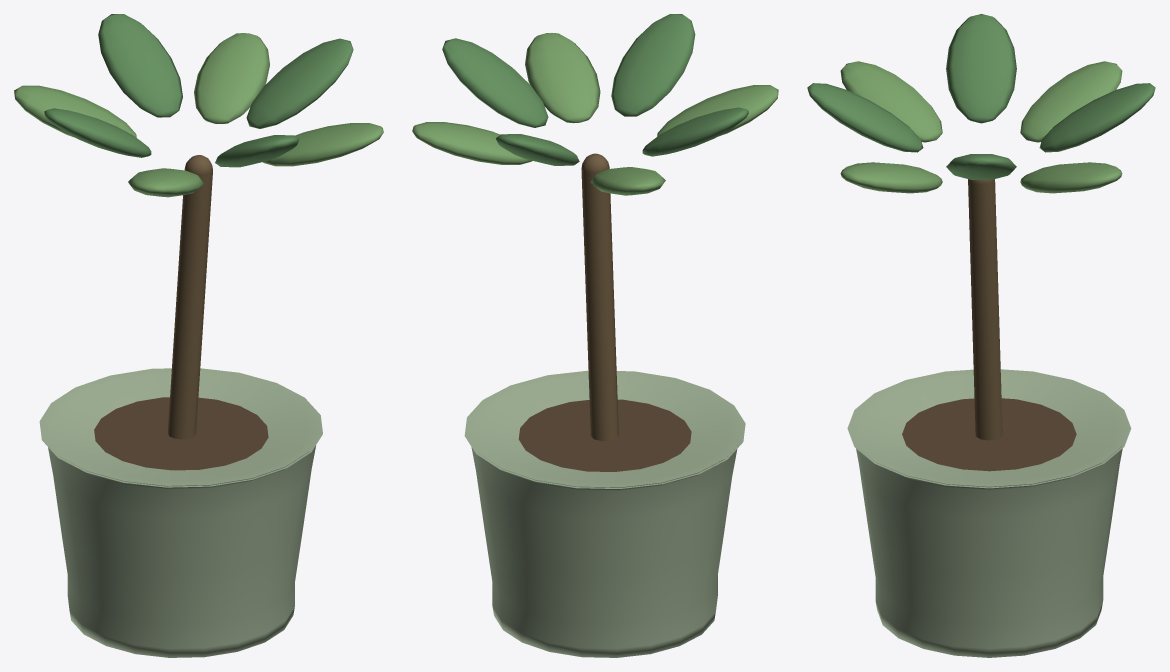
File: plant-palm.glb
The picture shows the model from 3 angles, left to right: view 1: azimuth 30°, elevation 25°; view 2: azimuth 150°, elevation 25°; view 3: azimuth 270°, elevation 25°; orthographic projection.
Visible parts, largest first — view 1: plant-palm_m_9fb194, plant-palm_m_5f8a5a, plant-palm_m_77a067, plant-palm_m_5a4636, plant-palm_m_6d5a3f; view 2: plant-palm_m_9fb194, plant-palm_m_5f8a5a, plant-palm_m_77a067, plant-palm_m_5a4636, plant-palm_m_6d5a3f; view 3: plant-palm_m_9fb194, plant-palm_m_5f8a5a, plant-palm_m_77a067, plant-palm_m_5a4636, plant-palm_m_6d5a3f.
Boxes of the visible parts, x1,y1,x2,y2 form: plant-palm_m_9fb194: [39, 368, 322, 657]; plant-palm_m_5f8a5a: [44, 14, 353, 167]; plant-palm_m_77a067: [14, 33, 383, 197]; plant-palm_m_5a4636: [94, 397, 268, 470]; plant-palm_m_6d5a3f: [167, 155, 212, 439]; plant-palm_m_9fb194: [464, 370, 745, 657]; plant-palm_m_5f8a5a: [442, 14, 748, 165]; plant-palm_m_77a067: [412, 33, 778, 195]; plant-palm_m_5a4636: [518, 399, 691, 471]; plant-palm_m_6d5a3f: [581, 153, 618, 441]; plant-palm_m_9fb194: [847, 369, 1131, 657]; plant-palm_m_5f8a5a: [807, 14, 1155, 179]; plant-palm_m_77a067: [840, 61, 1122, 193]; plant-palm_m_5a4636: [902, 398, 1076, 471]; plant-palm_m_6d5a3f: [968, 179, 1002, 440].
Size of the model in its own units: 0.7521 by 1.28 by 0.7521.
